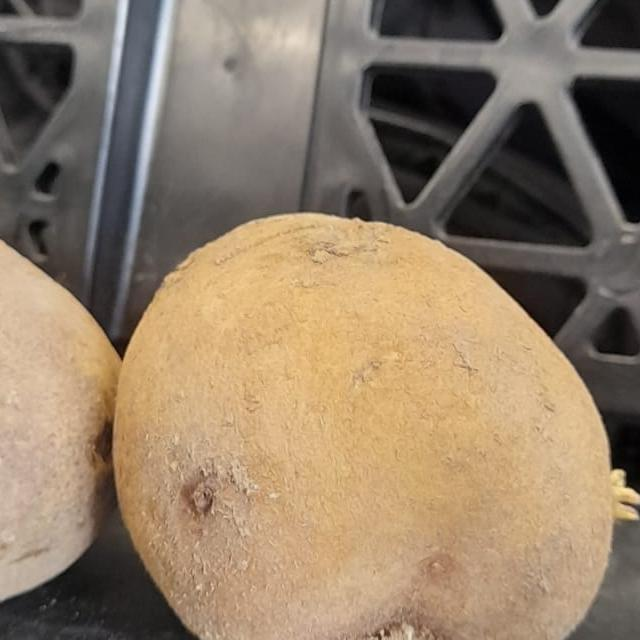potato: (120, 170, 640, 640), (0, 146, 113, 640)
